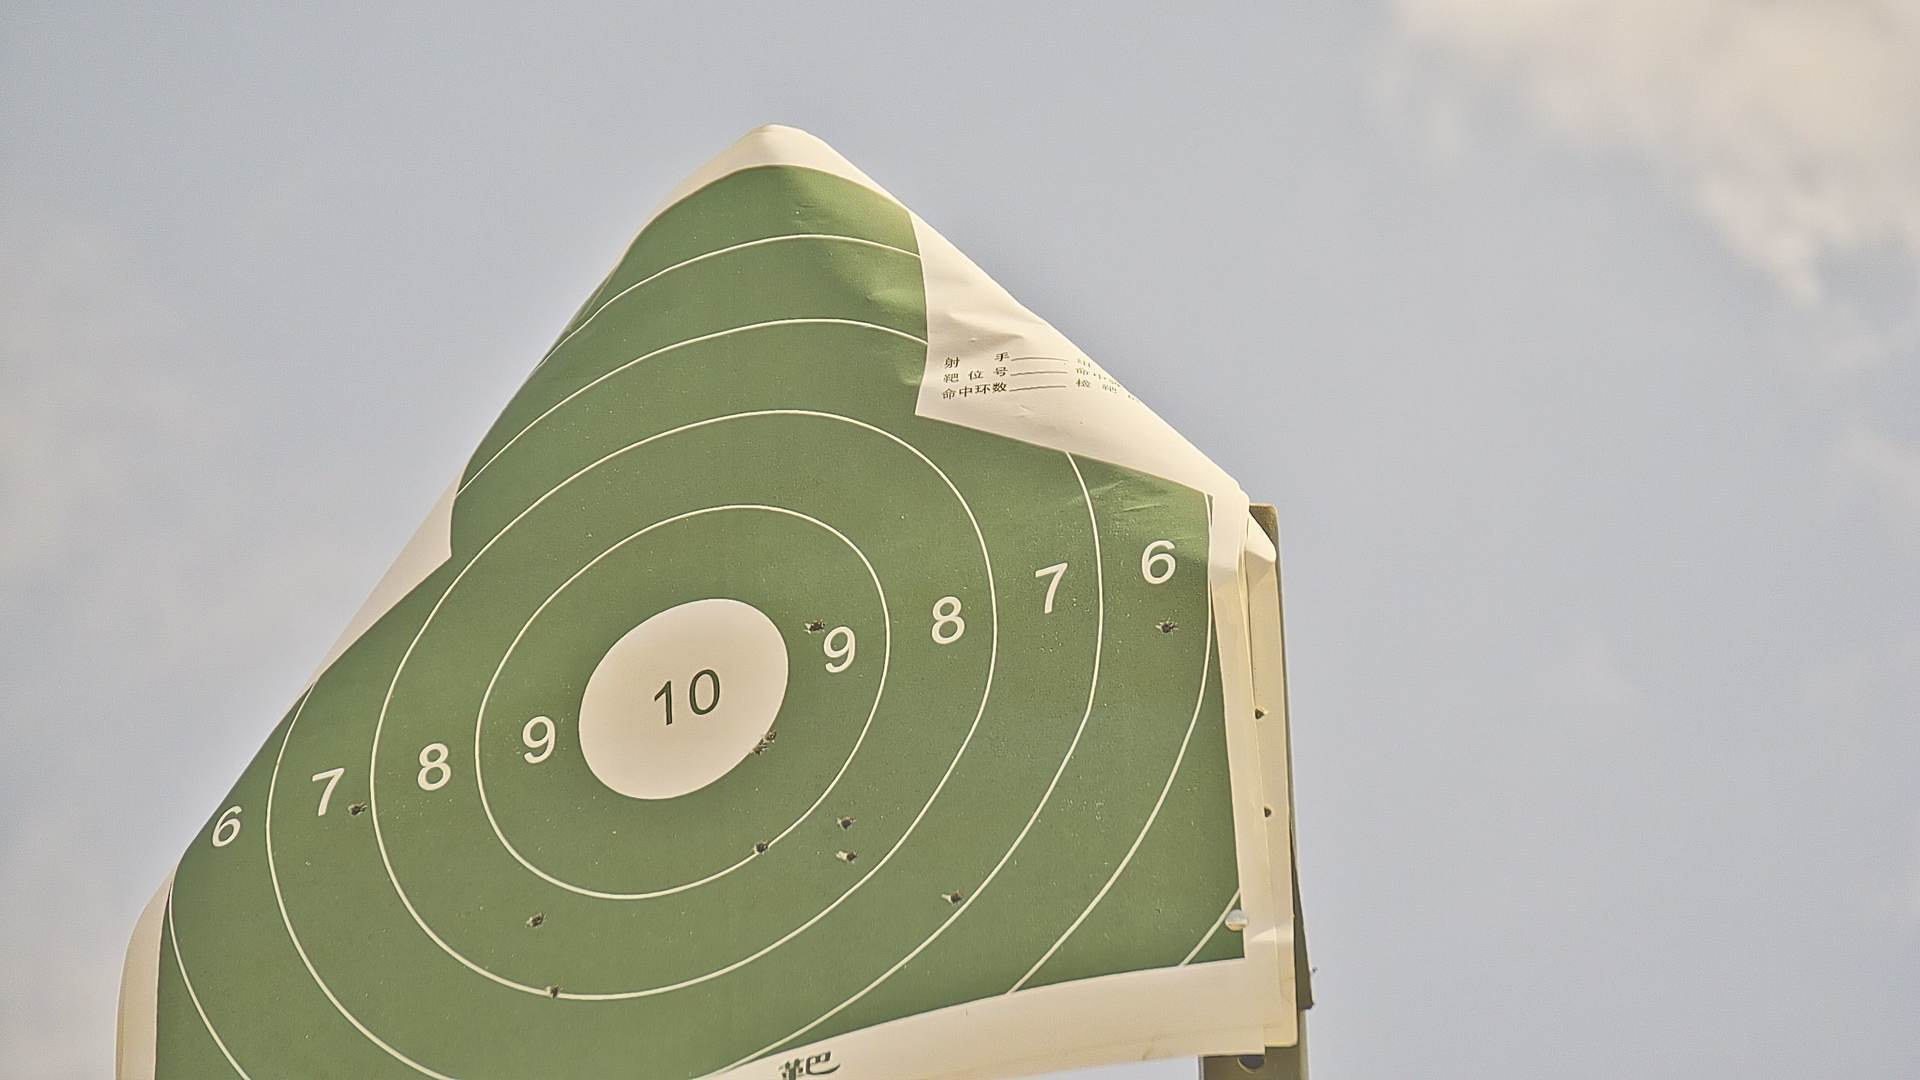hole: (1160, 617, 1178, 636), (844, 847, 858, 864), (349, 803, 365, 818), (754, 840, 769, 855), (807, 618, 823, 632), (764, 731, 781, 742), (529, 914, 542, 928), (839, 818, 855, 829), (949, 891, 963, 905), (549, 982, 559, 998), (752, 745, 765, 757)
kernel: (679, 699, 682, 702)
target: (150, 166, 1247, 1080)
ten: (574, 595, 790, 798)
